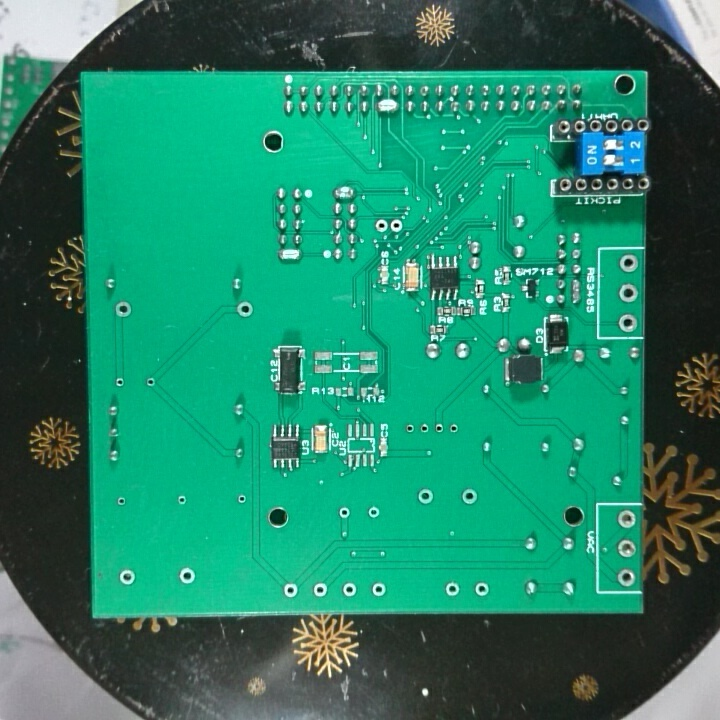F: (617, 280, 640, 306), (234, 297, 257, 322), (615, 311, 639, 334), (617, 252, 639, 275), (615, 566, 637, 589), (112, 298, 134, 320), (617, 536, 636, 561), (617, 507, 637, 530), (177, 565, 197, 586), (459, 485, 478, 507), (415, 486, 435, 506), (116, 567, 136, 586), (281, 579, 299, 599), (339, 579, 357, 598), (368, 578, 385, 598), (112, 493, 132, 510), (364, 503, 382, 521), (442, 580, 459, 599), (311, 580, 328, 598), (474, 580, 490, 599), (336, 504, 352, 523), (445, 420, 462, 437), (234, 492, 250, 508), (417, 420, 433, 436), (373, 218, 389, 234), (174, 492, 191, 507), (388, 218, 403, 235), (144, 373, 157, 392), (113, 374, 128, 390), (432, 420, 446, 437), (403, 420, 417, 436)
P: (276, 246, 303, 266), (331, 183, 358, 200), (568, 278, 583, 307), (376, 97, 399, 114)
